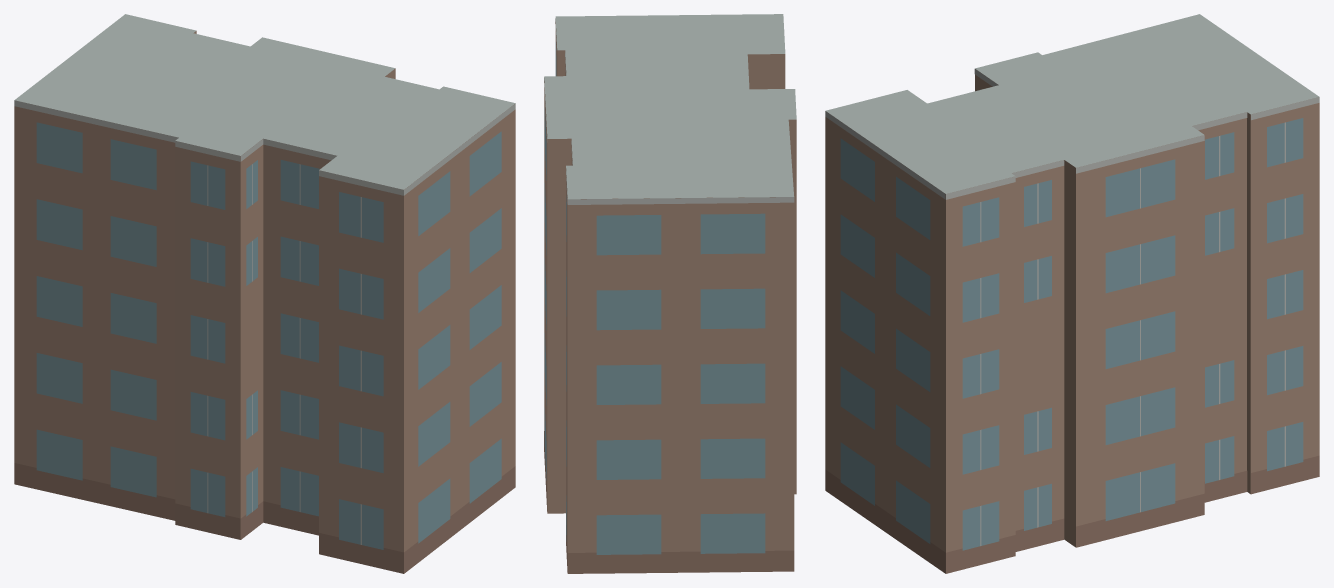
The model's file is survey-upis-32875332.glb.
The picture shows the model from 3 angles, left to right: view 1: azimuth 30°, elevation 25°; view 2: azimuth 150°, elevation 25°; view 3: azimuth 270°, elevation 25°; orthographic projection. The views are drawn at different scales.
Visible parts, largest first — view 1: survey-upis-32875332.tmp; view 2: survey-upis-32875332.tmp; view 3: survey-upis-32875332.tmp.
Part boxes in pixels (<box>): survey-upis-32875332.tmp: <box>14,14,515,573</box>; survey-upis-32875332.tmp: <box>544,14,796,573</box>; survey-upis-32875332.tmp: <box>825,14,1319,573</box>.
Bounding box in the file's own units: 16.02 × 15.75 × 18.58.
